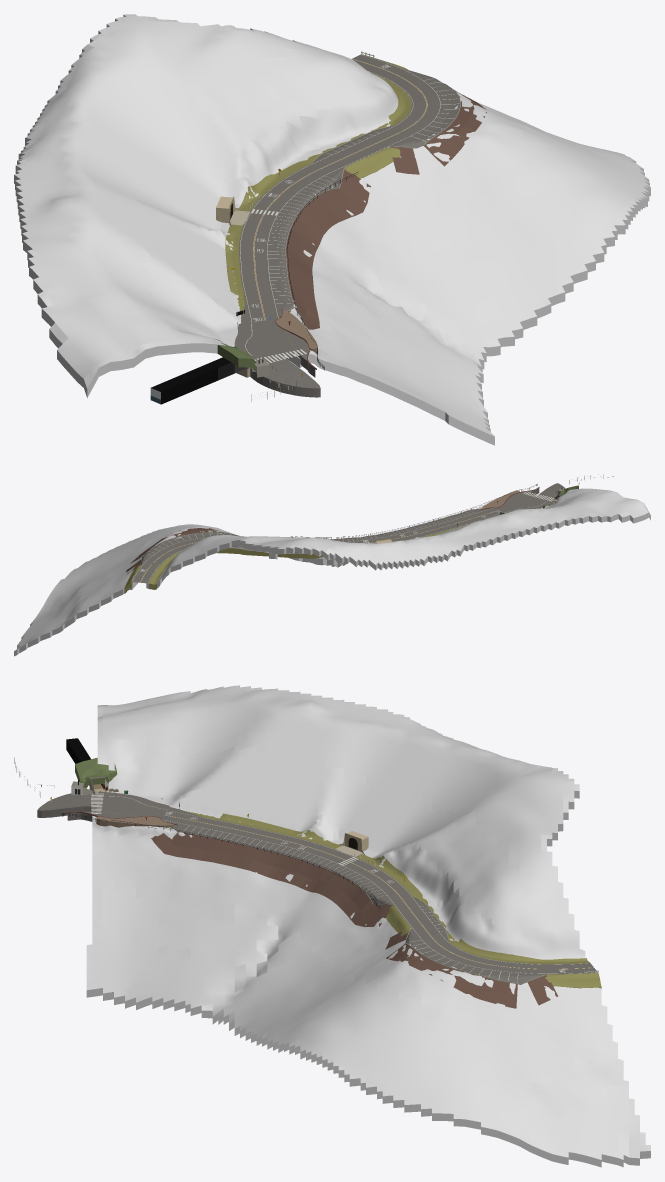
File: conz_11.glb
3 views of the same model, one above another, from view 1: azimuth 30°, elevation 25°; view 2: azimuth 150°, elevation 25°; view 3: azimuth 270°, elevation 25° (orthographic). The views are drawn at different scales.
Parts seen in each view (by area): view 1: terrain11, road11, apron11_13, verge11R, lot11_13, lot_plaza11, apron11_11, lot11_11, tunwa_bk_in311, paint_white11, verge11L, lot_gravel_penin11 (+1 smaller); view 2: terrain11, road11, verge11R, lot11_13, lot11_11, lot_plaza11, apron11_11, paint_white11; view 3: terrain11, road11, apron11_13, verge11R, apron11_11, lot11_13, lot_plaza11, lot11_11, verge11L, paint_white11, terrain_bkroof11, lot_gravel_penin11.
Boxes of the visible parts, x1,y1,x2,y2 form: terrain11: (14, 14, 650, 445); road11: (239, 54, 441, 357); apron11_13: (286, 168, 370, 329); verge11R: (225, 74, 411, 316); lot11_13: (268, 167, 344, 317); lot_plaza11: (234, 303, 320, 397); apron11_11: (392, 90, 486, 174); lot11_11: (390, 70, 459, 148); tunwa_bk_in311: (151, 357, 230, 404); paint_white11: (240, 55, 440, 363); verge11L: (279, 54, 407, 352); lot_gravel_penin11: (276, 310, 317, 353); terrain11: (14, 488, 650, 656); road11: (132, 493, 540, 583); verge11R: (149, 523, 472, 589); lot11_13: (330, 508, 488, 541); lot11_11: (142, 532, 241, 563); lot_plaza11: (482, 483, 564, 520); apron11_11: (126, 528, 223, 574); paint_white11: (133, 491, 554, 582); terrain11: (86, 685, 650, 1167); road11: (96, 802, 597, 974); apron11_13: (151, 826, 391, 926); verge11R: (186, 811, 589, 964); apron11_11: (385, 931, 558, 1008); lot11_13: (167, 821, 393, 904); lot_plaza11: (37, 791, 200, 817); lot11_11: (405, 929, 545, 984); verge11L: (96, 812, 601, 988); paint_white11: (91, 793, 597, 973); terrain_bkroof11: (75, 757, 117, 788); lot_gravel_penin11: (96, 816, 173, 827).
Size of the model in its own units: 266 by 86.17 by 233.
